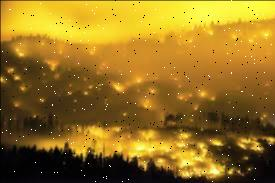fire: (2, 28, 275, 126), (97, 130, 274, 183)
